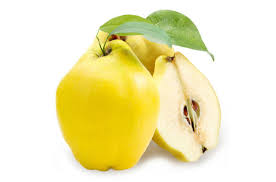Quince: (35, 37, 175, 177)
